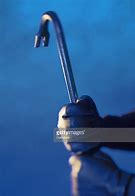crowbar: (32, 9, 98, 153)
